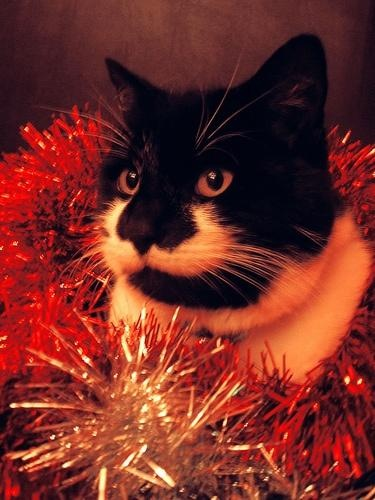cat: (92, 35, 372, 387)
